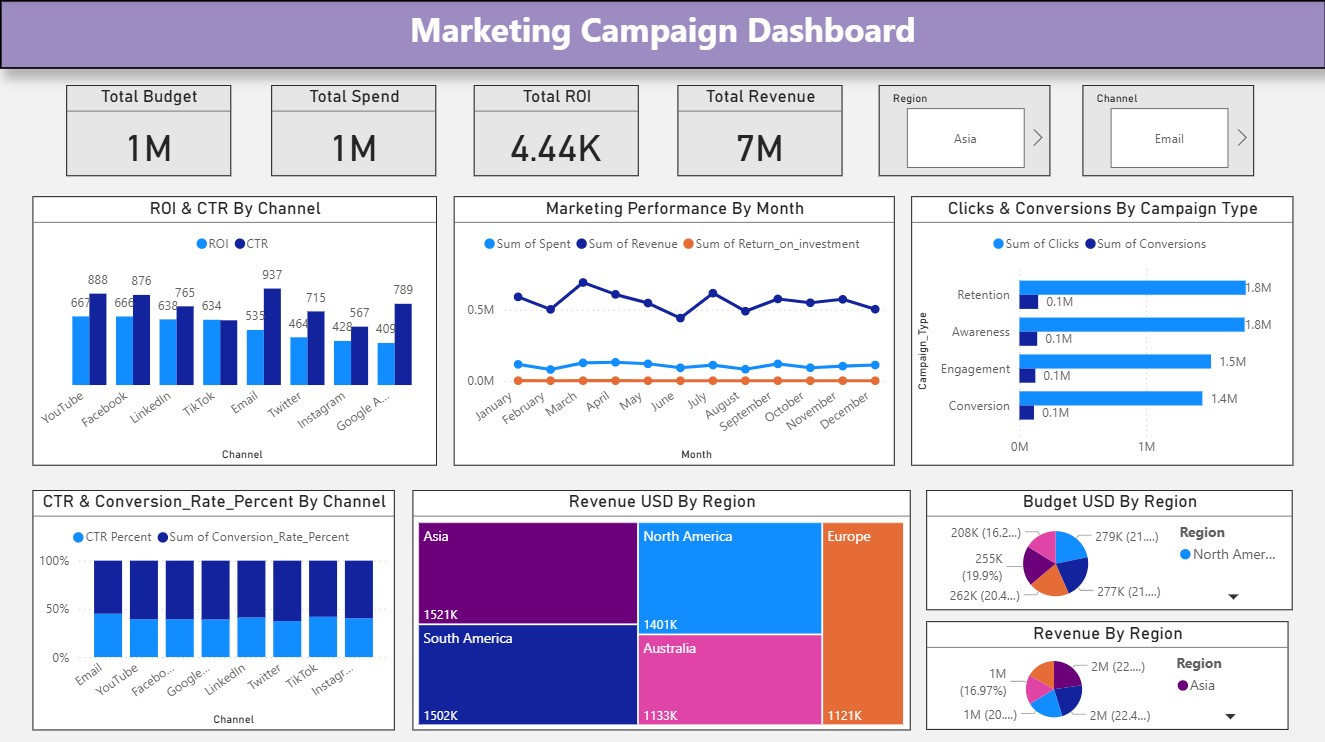

The page's visual inventory and layout, read from the dashboard file:
{"tool":"powerbi","page":{"name":"Page 1","canvas":[1280,720],"ordinal":0},"visuals":[{"type":"textbox","box":[0,0,1280.3,66.3],"z":0},{"type":"card","title":"Total Budget","fields":{"Values":["Sum(marketing_datasetrows.Budget_USD)"]},"box":[64.1,81.8,158.8,88.4],"z":1000},{"type":"card","title":"Total Spend","fields":{"Values":["Sum(marketing_datasetrows.Spent_USD)"]},"box":[261.6,81.8,158.8,88.4],"z":2000},{"type":"card","title":"Total ROI","fields":{"Values":["Sum(marketing_datasetrows.Return_on_investment)"]},"box":[457.2,82,159.3,88.1],"z":3000},{"type":"card","title":"Total Revenue","fields":{"Values":["Sum(marketing_datasetrows.Revenue_USD)"]},"box":[653.9,82,159.3,88.1],"z":4000},{"type":"slicer","fields":{"Values":["marketing_datasetrows.Region"]},"box":[848.1,82,165.3,88.1],"z":5000},{"type":"slicer","fields":{"Values":["marketing_datasetrows.Channel"]},"box":[1044.7,81.8,165.7,88.4],"z":6000},{"type":"clusteredColumnChart","title":"ROI & CTR By Channel","fields":{"Category":["marketing_datasetrows.Channel"],"Y":["Sum(marketing_datasetrows.Return_on_investment)","Sum(marketing_datasetrows.CTR)"]},"box":[31.8,189.9,390,260],"z":7000},{"type":"lineChart","title":"Marketing Performance By Month","fields":{"Category":["marketing_datasetrows.Start_Date.Variation.Date Hierarchy.Month"],"Y":["Sum(marketing_datasetrows.Spent_USD)","Sum(marketing_datasetrows.Revenue_USD)","Sum(marketing_datasetrows.Return_on_investment)"]},"box":[437.6,189.9,425.7,260],"z":8000},{"type":"clusteredBarChart","title":"Clicks & Conversions By Campaign Type","fields":{"Category":["marketing_datasetrows.Campaign_Type"],"Y":["Sum(marketing_datasetrows.Clicks)","Sum(marketing_datasetrows.Conversions)"]},"box":[879,189.9,368.6,260],"z":9000},{"type":"treemap","title":"Revenue USD By Region","fields":{"Group":["marketing_datasetrows.Region"],"Values":["Sum(marketing_datasetrows.Revenue_USD)"]},"box":[397.8,472.3,480.6,232],"z":10000},{"type":"hundredPercentStackedColumnChart","title":"CTR & Conversion_Rate_Percent By Channel","fields":{"Category":["marketing_datasetrows.Channel"],"Y":["Sum(marketing_datasetrows.CTR_Percent)","Sum(marketing_datasetrows.Conversion_Rate_Percent)"]},"box":[31.8,472.3,349.4,232],"z":11000},{"type":"pieChart","title":"Budget USD By Region","fields":{"Category":["marketing_datasetrows.Region"],"Y":["Sum(marketing_datasetrows.Budget_USD)"]},"box":[893.6,472.3,353.6,116],"z":12000},{"type":"pieChart","title":"Revenue By Region","fields":{"Category":["marketing_datasetrows.Region"],"Y":["Sum(marketing_datasetrows.Revenue_USD)"]},"box":[893.6,599.4,349.4,105],"z":13000}]}

Visuals, with their boxes in screenshot pixels (x1, y1, x2, y2), scaled from the page's 1280x720 canvas onto the 1325x742 screenshot:
textbox: 0 0 1324 68
"Total Budget" card: 66 84 231 175
"Total Spend" card: 271 84 435 175
"Total ROI" card: 473 85 638 175
"Total Revenue" card: 677 85 842 175
slicer - marketing_datasetrows.Region: 878 85 1049 175
slicer - marketing_datasetrows.Channel: 1081 84 1253 175
"ROI & CTR By Channel" clusteredColumnChart: 33 196 437 464
"Marketing Performance By Month" lineChart: 453 196 894 464
"Clicks & Conversions By Campaign Type" clusteredBarChart: 910 196 1291 464
"Revenue USD By Region" treemap: 412 487 909 726
"CTR & Conversion_Rate_Percent By Channel" hundredPercentStackedColumnChart: 33 487 395 726
"Budget USD By Region" pieChart: 925 487 1291 606
"Revenue By Region" pieChart: 925 618 1287 726
